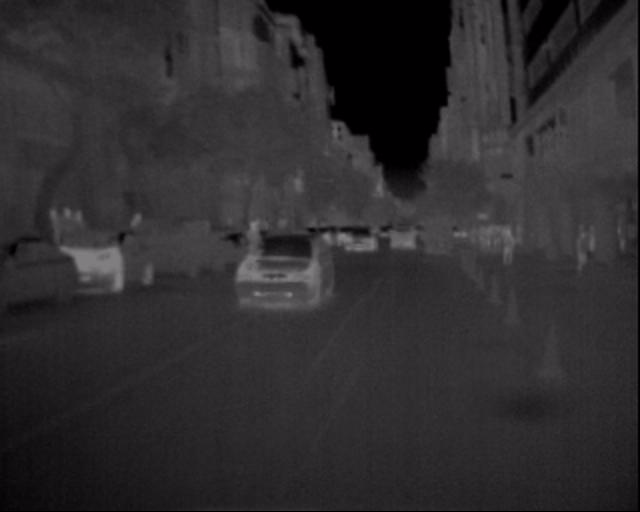person: (20, 197, 93, 244), (240, 212, 270, 278), (569, 222, 598, 278), (494, 223, 520, 269)
